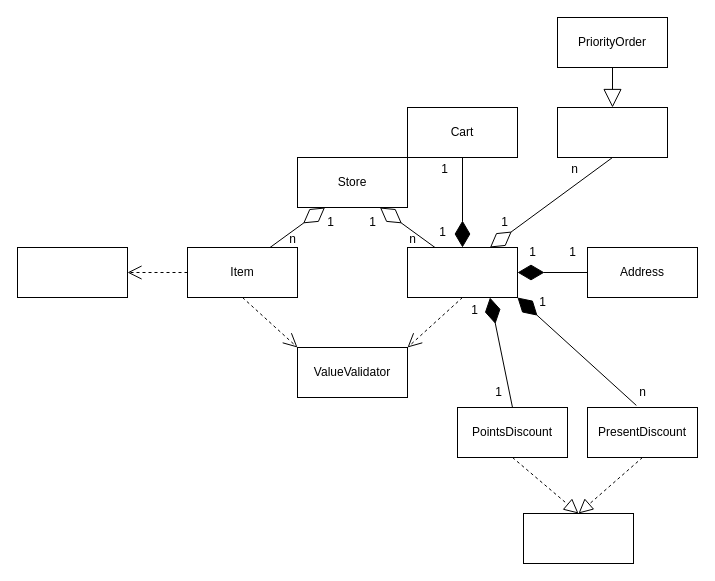
Image size: 715x581. Some labels were removed from this diagram. The centre of each missing label's shape, as x and y in pixels:
Customer: the point at 462,272
DataTools: the point at 72,272
IDiscount: the point at 578,538
Order: the point at 612,132
